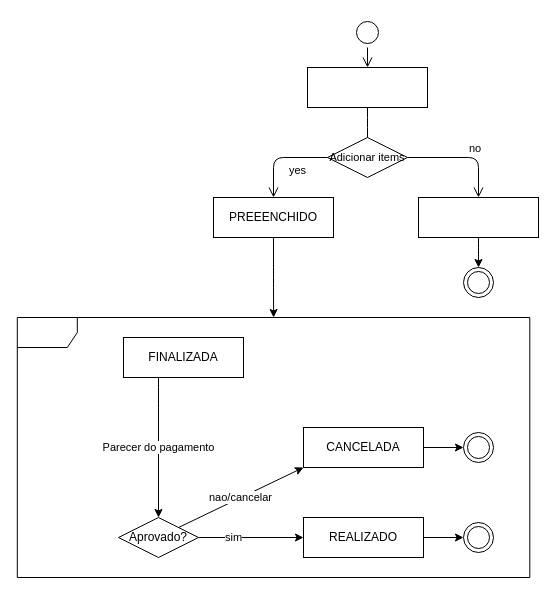
Image size: 557x595. Some labels were removed from this diagram. The shapes that lost their labels are listed below. From the top down, each one's centre as x and y in pixels, then its label:
pixel 367 87: ABERTA
pixel 478 217: VAZIO
pixel 273 447: Pedido
